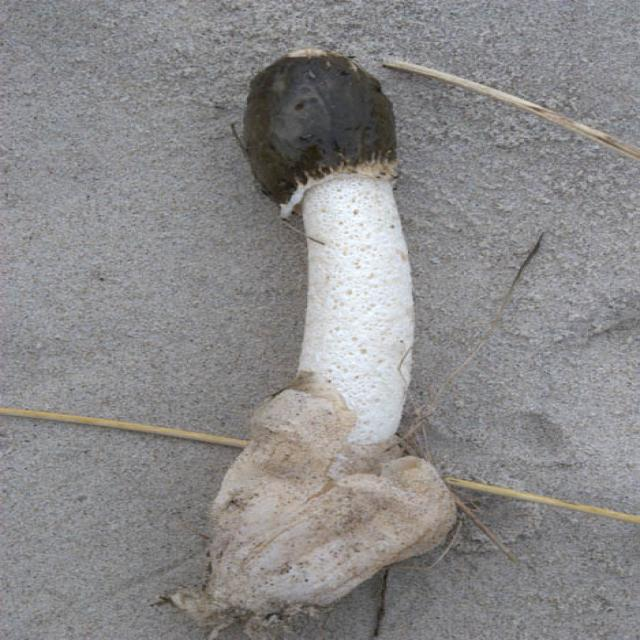Dictyophora indusiate: (208, 53, 461, 608)
